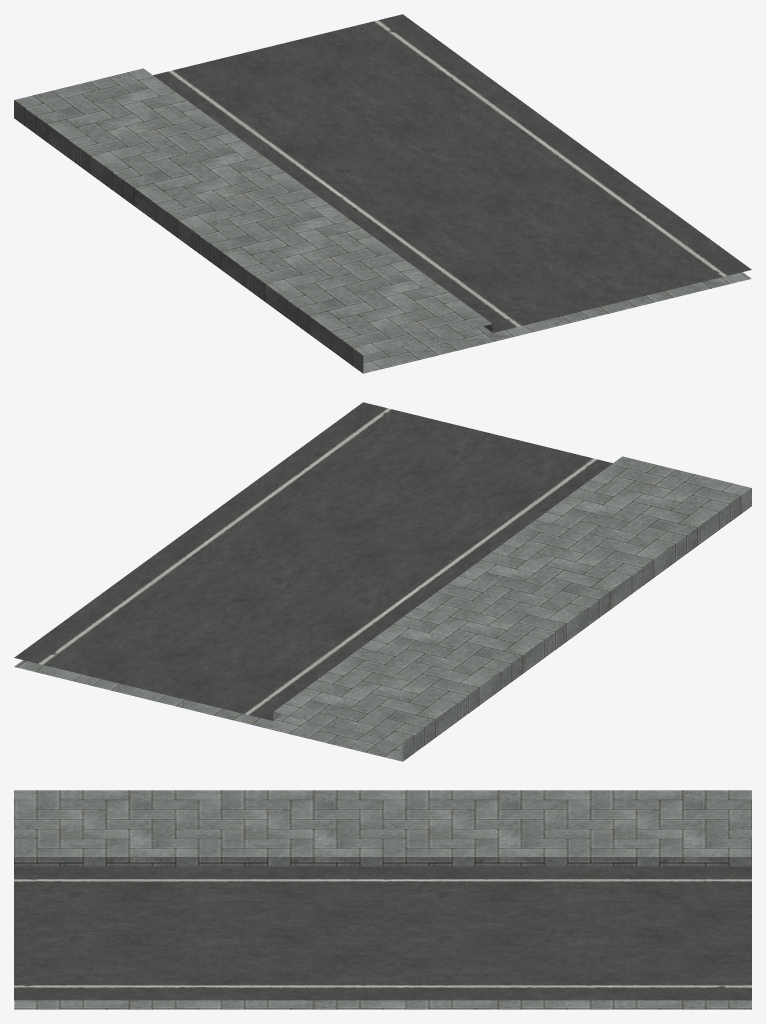
The model's file is Straight Oneway No Side.fbx.
3 renders of one model, top to bottom at view 1: azimuth 30°, elevation 25°; view 2: azimuth 150°, elevation 25°; view 3: azimuth 270°, elevation 25°, orthographic. The views are drawn at different scales.
Visible parts, largest first — view 1: Plane; view 2: Plane; view 3: Plane.
Part boxes in pixels (x1,y1,x2,y2): Plane: (14, 14, 751, 373); Plane: (14, 402, 751, 761); Plane: (14, 790, 751, 1009).
Size of the model in its own units: 900 by 40 by 1400.
